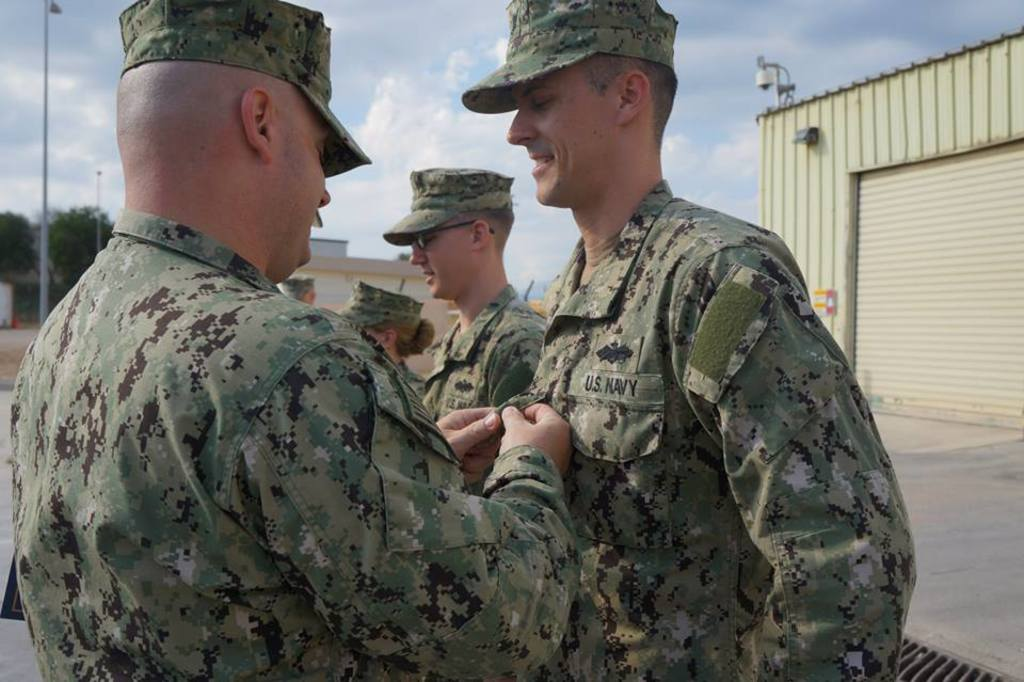face: (104, 28, 360, 294), (503, 52, 686, 234), (400, 217, 503, 311)
